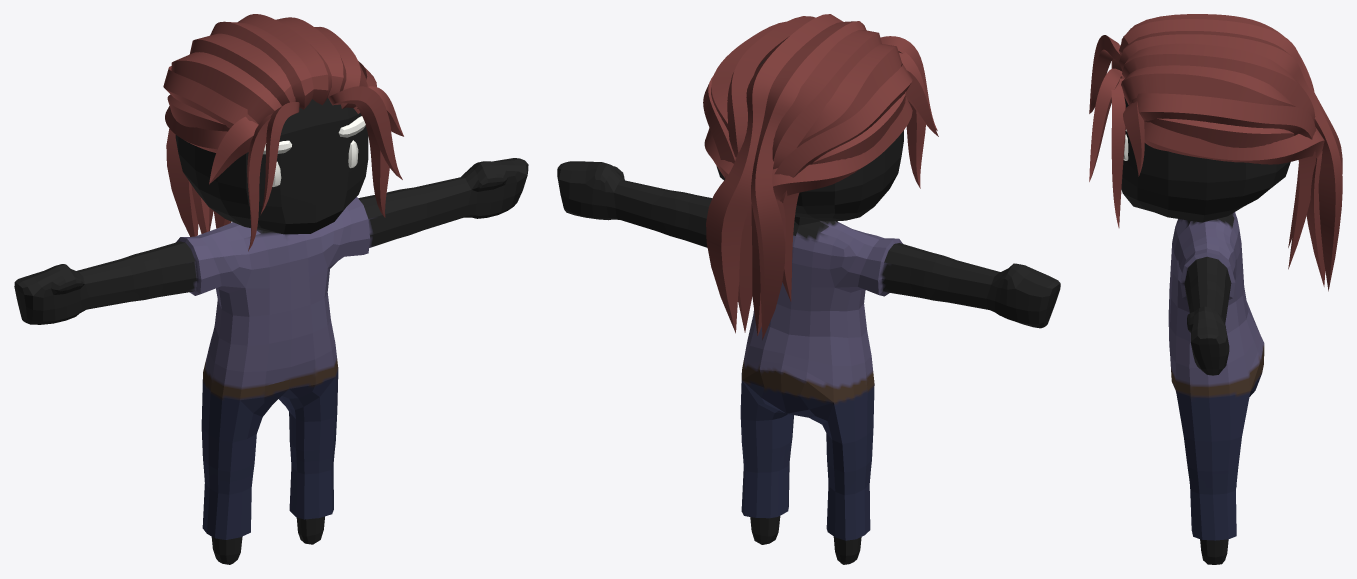
The model's file is Casual2_Female.fbx.
3 renders of one model, left to right at view 1: azimuth 30°, elevation 25°; view 2: azimuth 150°, elevation 25°; view 3: azimuth 270°, elevation 25°, orthographic. The views are drawn at different scales.
Visible parts, largest first — view 1: Body; view 2: Body; view 3: Body.
Boxes of the visible parts, x1,y1,x2,y2 form: Body: (14, 14, 528, 564); Body: (557, 14, 1060, 564); Body: (1089, 14, 1342, 564).
Size of the model in its own units: 324 by 320 by 142.
Materials: 1 (1 with a texture image).
